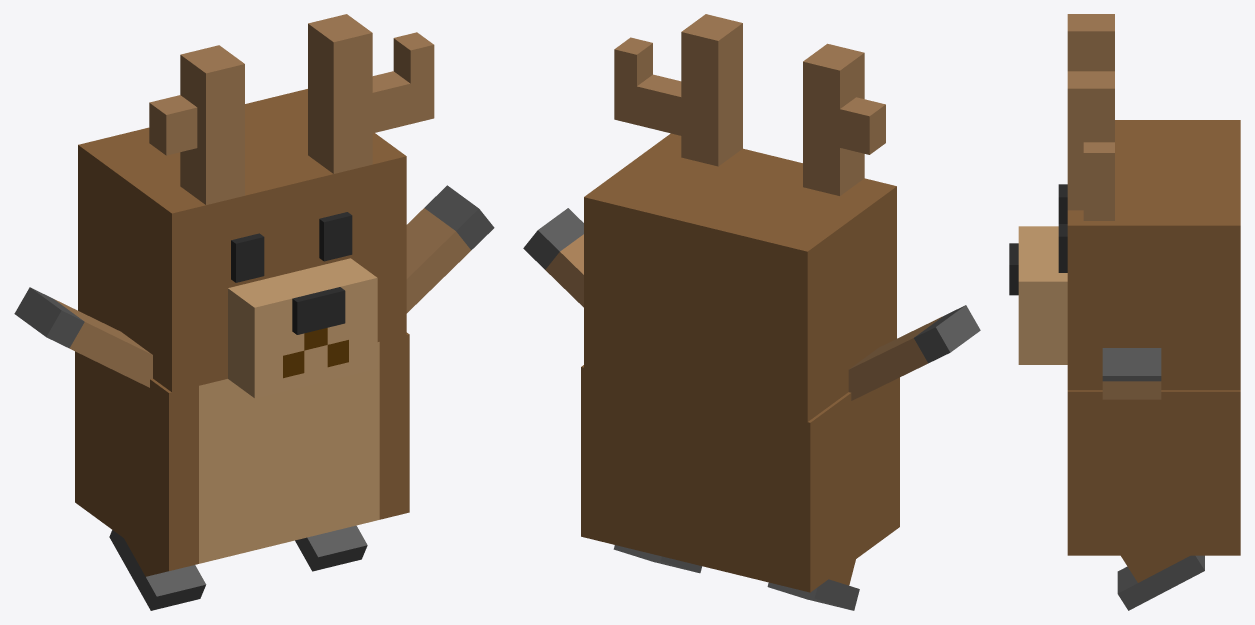
The picture shows the model from 3 angles, left to right: view 1: azimuth 30°, elevation 25°; view 2: azimuth 150°, elevation 25°; view 3: azimuth 270°, elevation 25°; orthographic projection. The views are drawn at different scales.
Visible parts, largest first — view 1: Ch_27_Head, Ch_27, Ch_27_Hand_R, Ch_27_Hand_L, Ch_27_Leg_L, Ch_27_Eye_01, Ch_27_Leg_R; view 2: Ch_27_Head, Ch_27, Ch_27_Hand_L, Ch_27_Hand_R, Ch_27_Leg_L, Ch_27_Leg_R; view 3: Ch_27_Head, Ch_27, Ch_27_Leg_R, Ch_27_Hand_R, Ch_27_Eye_01.
Boxes of the visible parts, x1,y1,x2,y2 form: Ch_27_Head: (78, 14, 434, 398); Ch_27: (75, 332, 409, 570); Ch_27_Hand_R: (406, 185, 494, 313); Ch_27_Hand_L: (14, 287, 152, 387); Ch_27_Leg_L: (109, 530, 206, 610); Ch_27_Eye_01: (231, 212, 352, 282); Ch_27_Leg_R: (295, 525, 367, 571); Ch_27_Head: (584, 14, 896, 421); Ch_27: (581, 365, 899, 592); Ch_27_Hand_L: (848, 305, 980, 400); Ch_27_Hand_R: (523, 208, 583, 307); Ch_27_Leg_L: (767, 559, 859, 610); Ch_27_Leg_R: (613, 545, 701, 573); Ch_27_Head: (1009, 14, 1240, 390); Ch_27: (1067, 390, 1240, 555); Ch_27_Leg_R: (1117, 555, 1204, 610); Ch_27_Hand_R: (1102, 348, 1161, 399); Ch_27_Eye_01: (1058, 184, 1067, 272).
Bounding box in the file's own units: 12.03 × 14.26 × 5.84.
